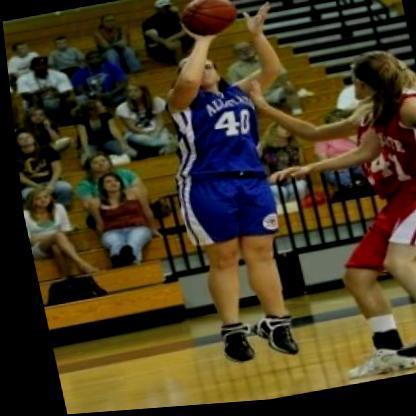basketball: (173, 0, 244, 44)
